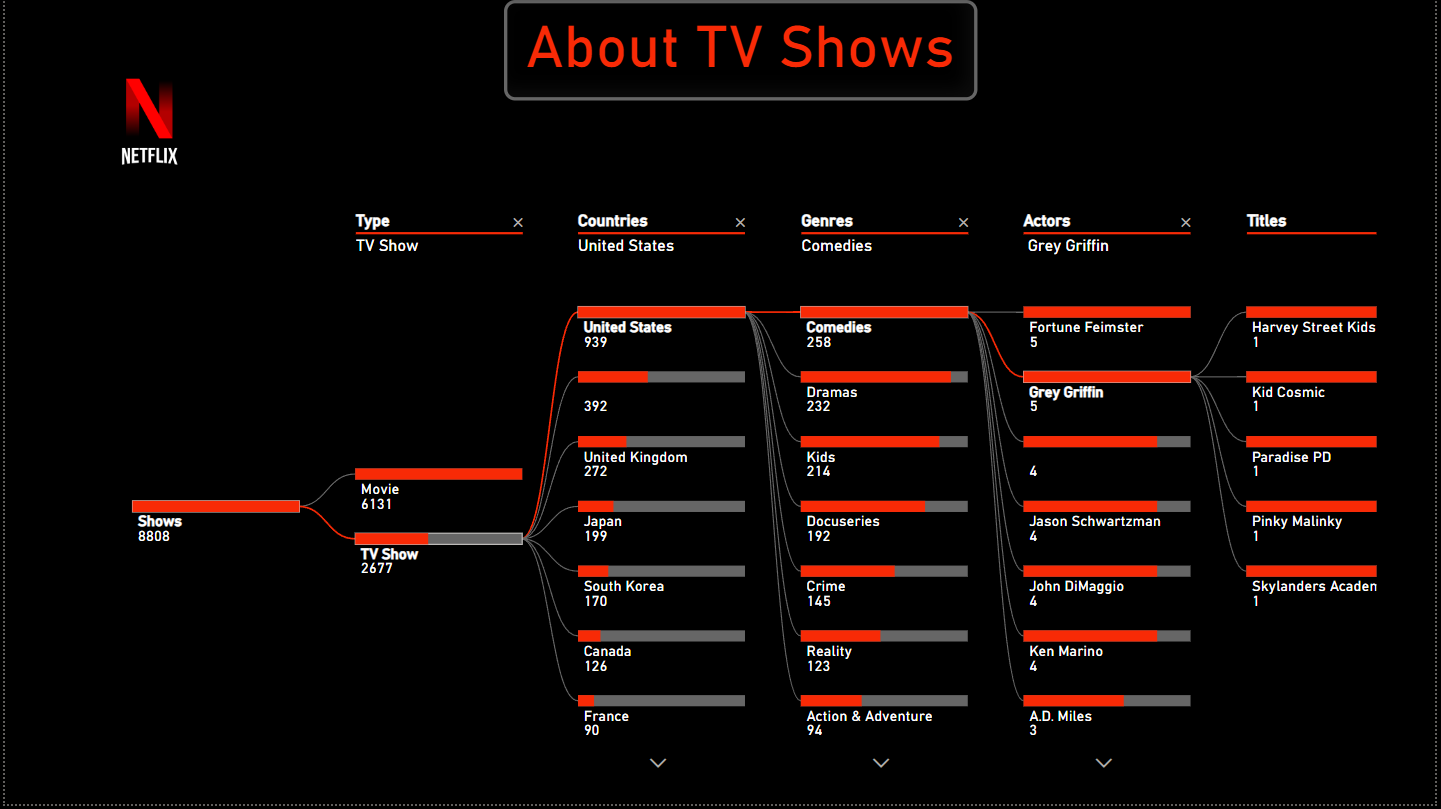

Layout of this report page (visuals, bound fields, positions):
{"tool":"powerbi","page":{"name":"TV Shows","canvas":[1280,720],"ordinal":4},"visuals":[{"type":"textbox","box":[446.9,0,423.6,90.4],"z":0},{"type":"image","box":[0,0,258.8,219.4],"z":1000},{"type":"decompositionTreeVisual","fields":{"Analyze":["Count(netflix.show_id)"],"ExplainBy":["netflix.type","netflix.country","netflix.listed_in","netflix.cast","netflix.title"]},"box":[84.2,172.8,1149,537.3],"z":2000}]}

Visuals, with their boxes in screenshot pixels (x1, y1, x2, y2), scaled from the page's 1280x720 canvas onto the 1441x809 screenshot:
textbox: box(503, 0, 980, 102)
image: box(0, 0, 291, 247)
decompositionTreeVisual - Count(netflix.show_id) x netflix.type: box(95, 194, 1388, 798)
